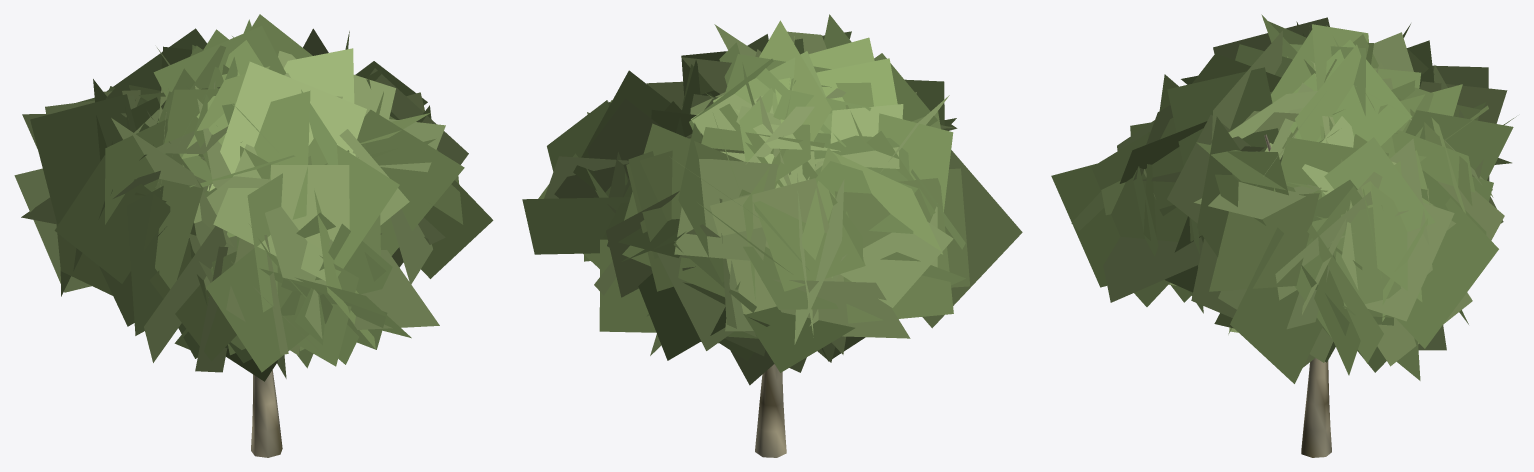
3 renders of one model, left to right at view 1: azimuth 30°, elevation 25°; view 2: azimuth 150°, elevation 25°; view 3: azimuth 270°, elevation 25°, orthographic.
Visible parts, largest first — view 1: plane_lod1; view 2: plane_lod1; view 3: plane_lod1.
Part boxes in pixels (<box>): plane_lod1: <box>14,14,493,457</box>; plane_lod1: <box>522,14,1022,457</box>; plane_lod1: <box>1051,14,1516,457</box>.
Size of the model in its own units: 0.9907 by 1 by 1.
